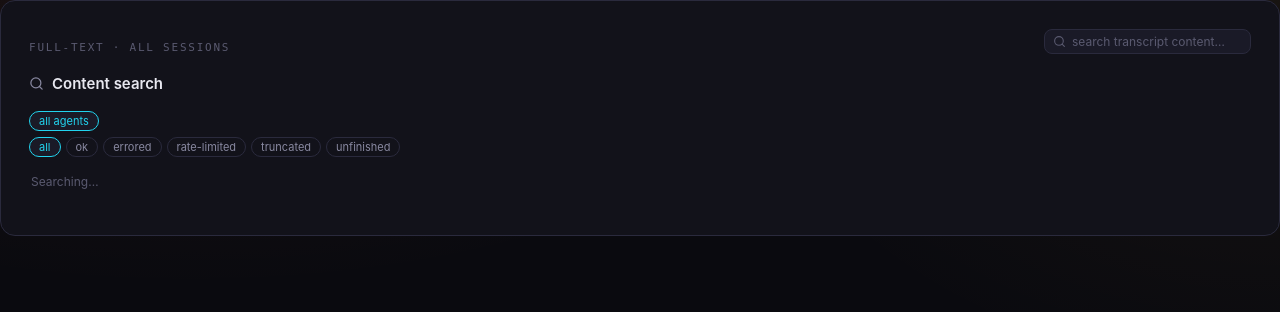
Test: ContentSearchPanel › pager advances offset and shows from–to of total
Type "zebrafish" into the search field labelled "search transcript content…" at (1157, 42), box [1072,34,1242,49]
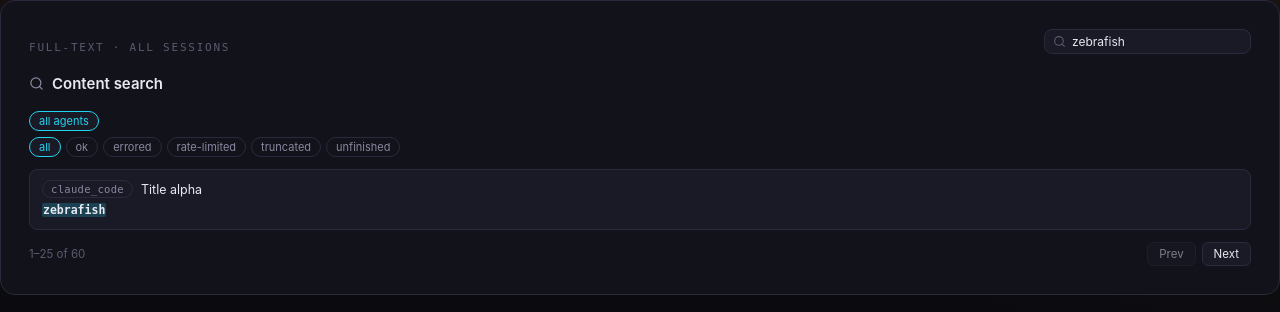
Expected: the text "1–25 of 60" is shown, [29,246,85,263]
Click the button "Next" at (1226, 254), box [1202,242,1251,266]
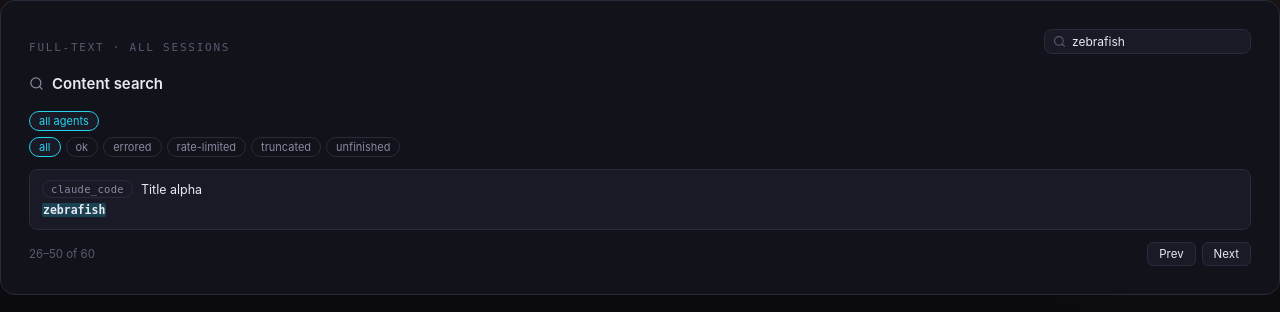
Expected: the text "26–50 of 60" is shown, [29,246,95,263]
